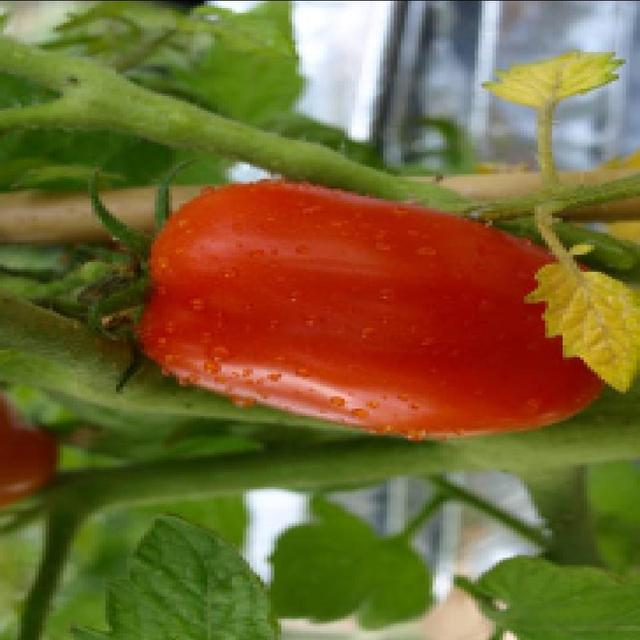Healthy Fruit: (74, 122, 419, 292)
